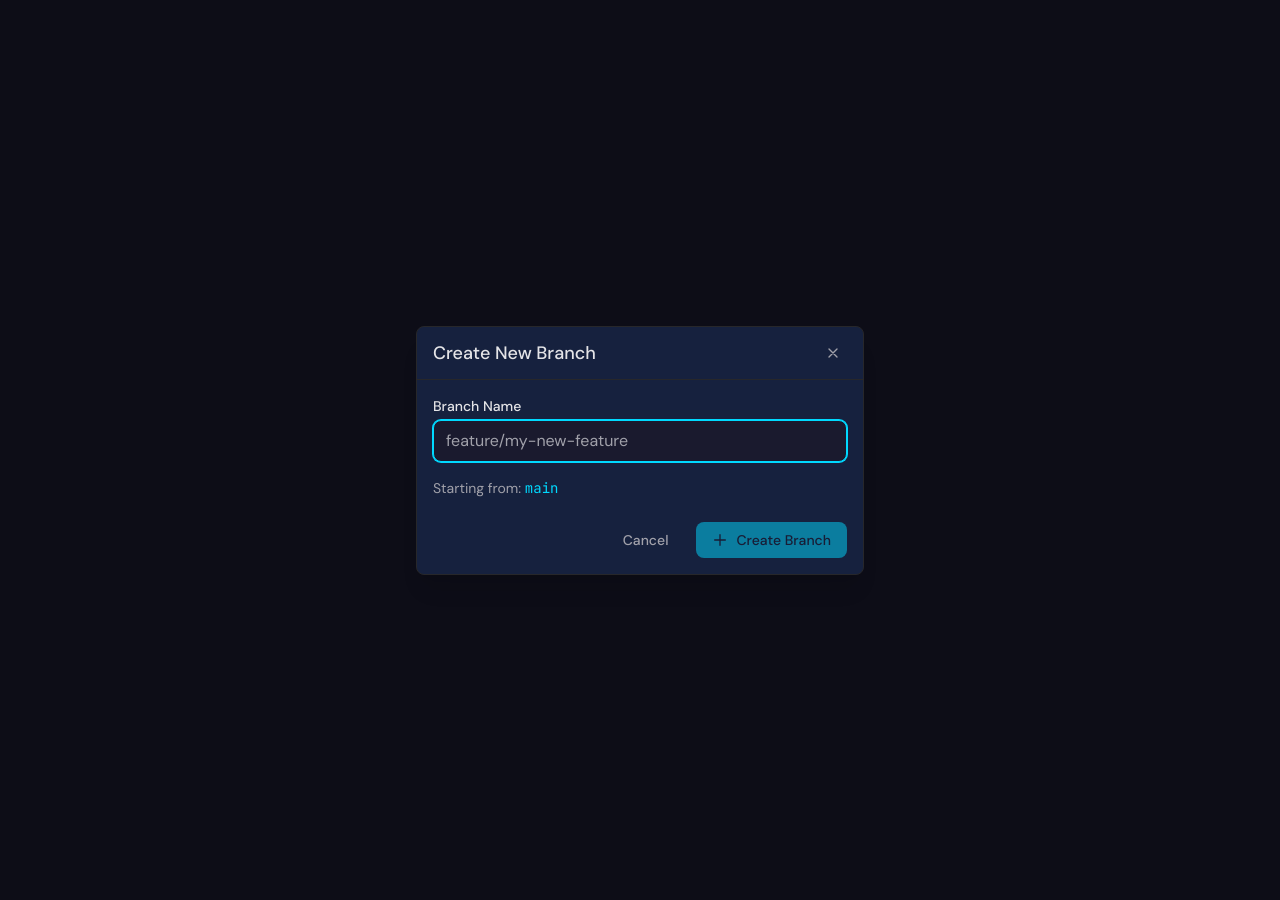
Scenario: CreateBranchModal › should show error for branch name with spaces
Type "my feature" into the field labelled "Branch Name" at (640, 440), box [433,420,847,462]
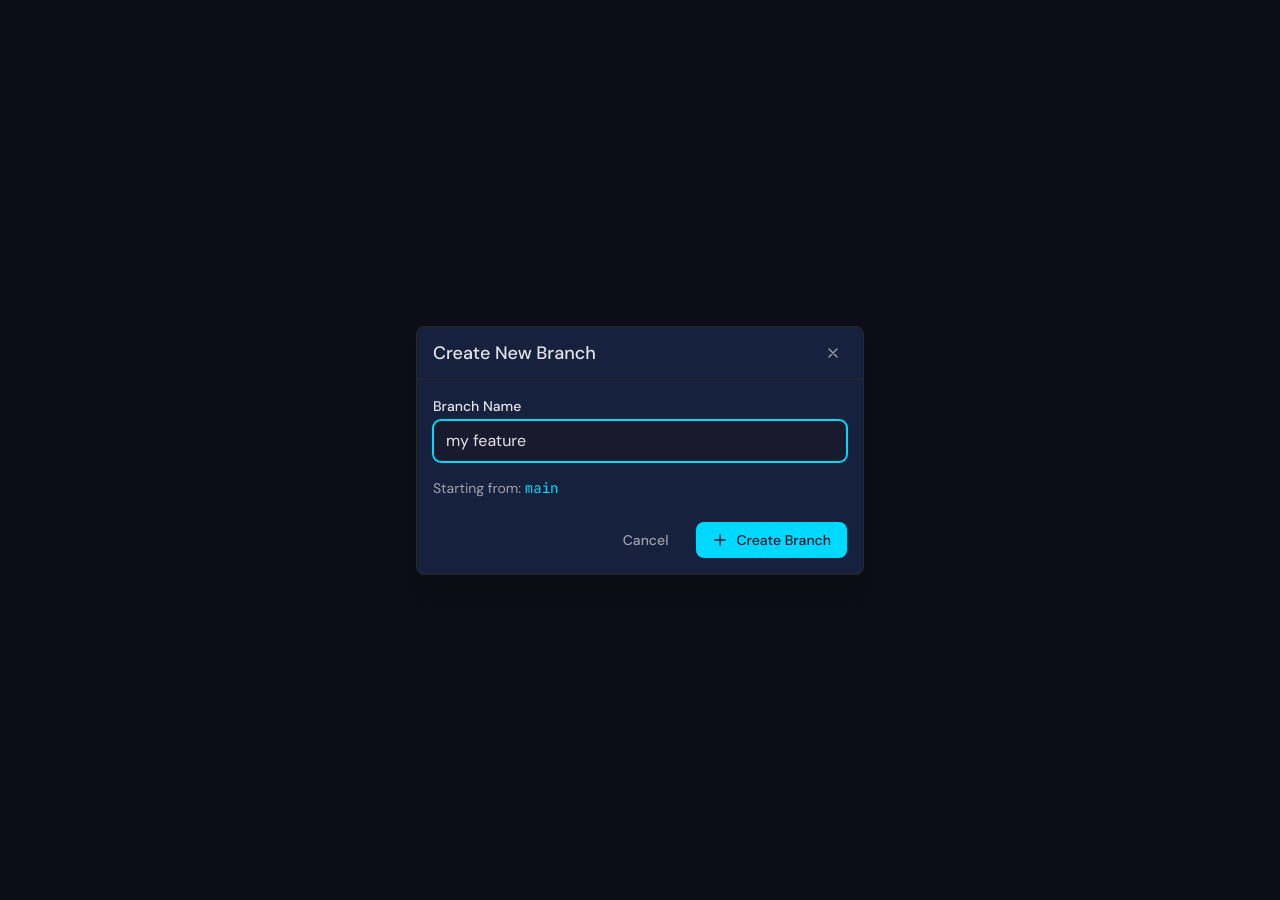
Submit the form "Branch Name Starting from: main Cancel Create Branch", box [417,380,863,574]
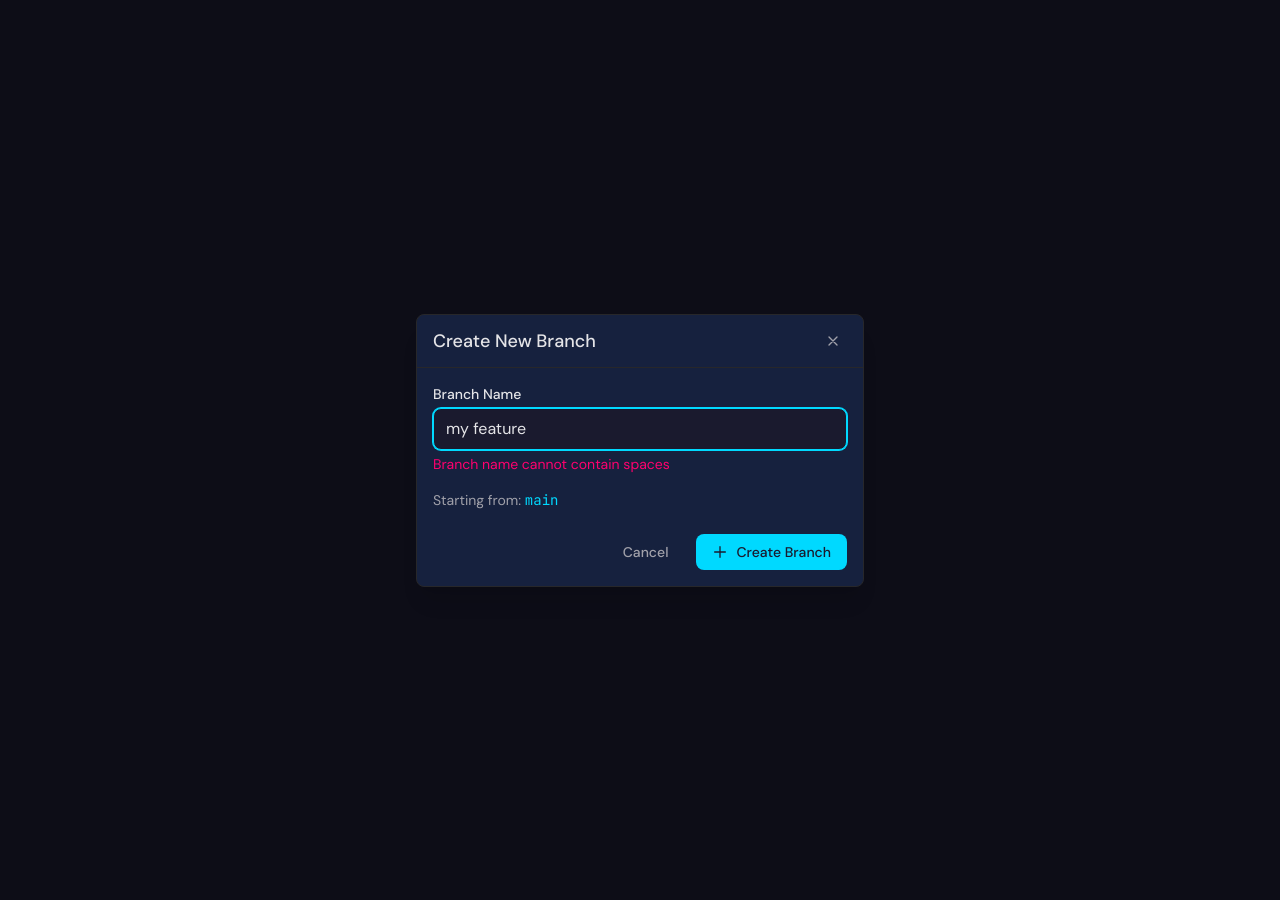
Expected: the text "Branch name cannot contain spaces" is shown, [433,454,670,472]
